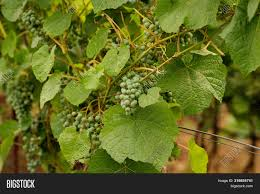grapes: (1, 81, 50, 139), (59, 104, 108, 146), (118, 66, 152, 112)
